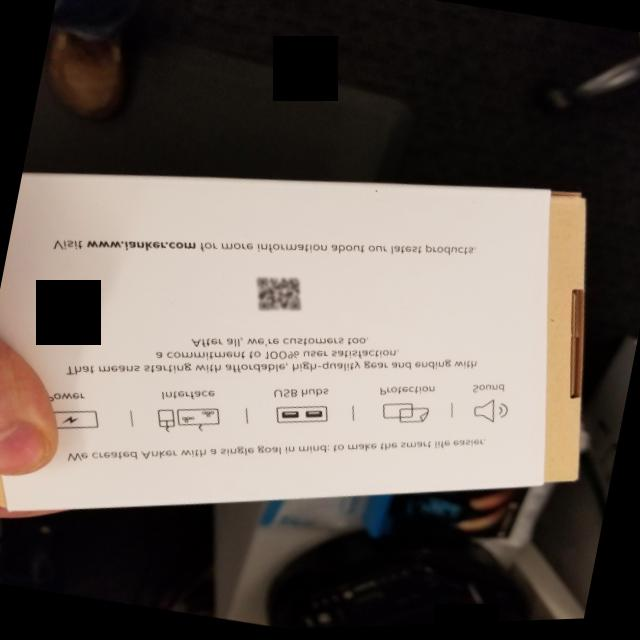QR_CODE: (243, 259, 318, 332)
